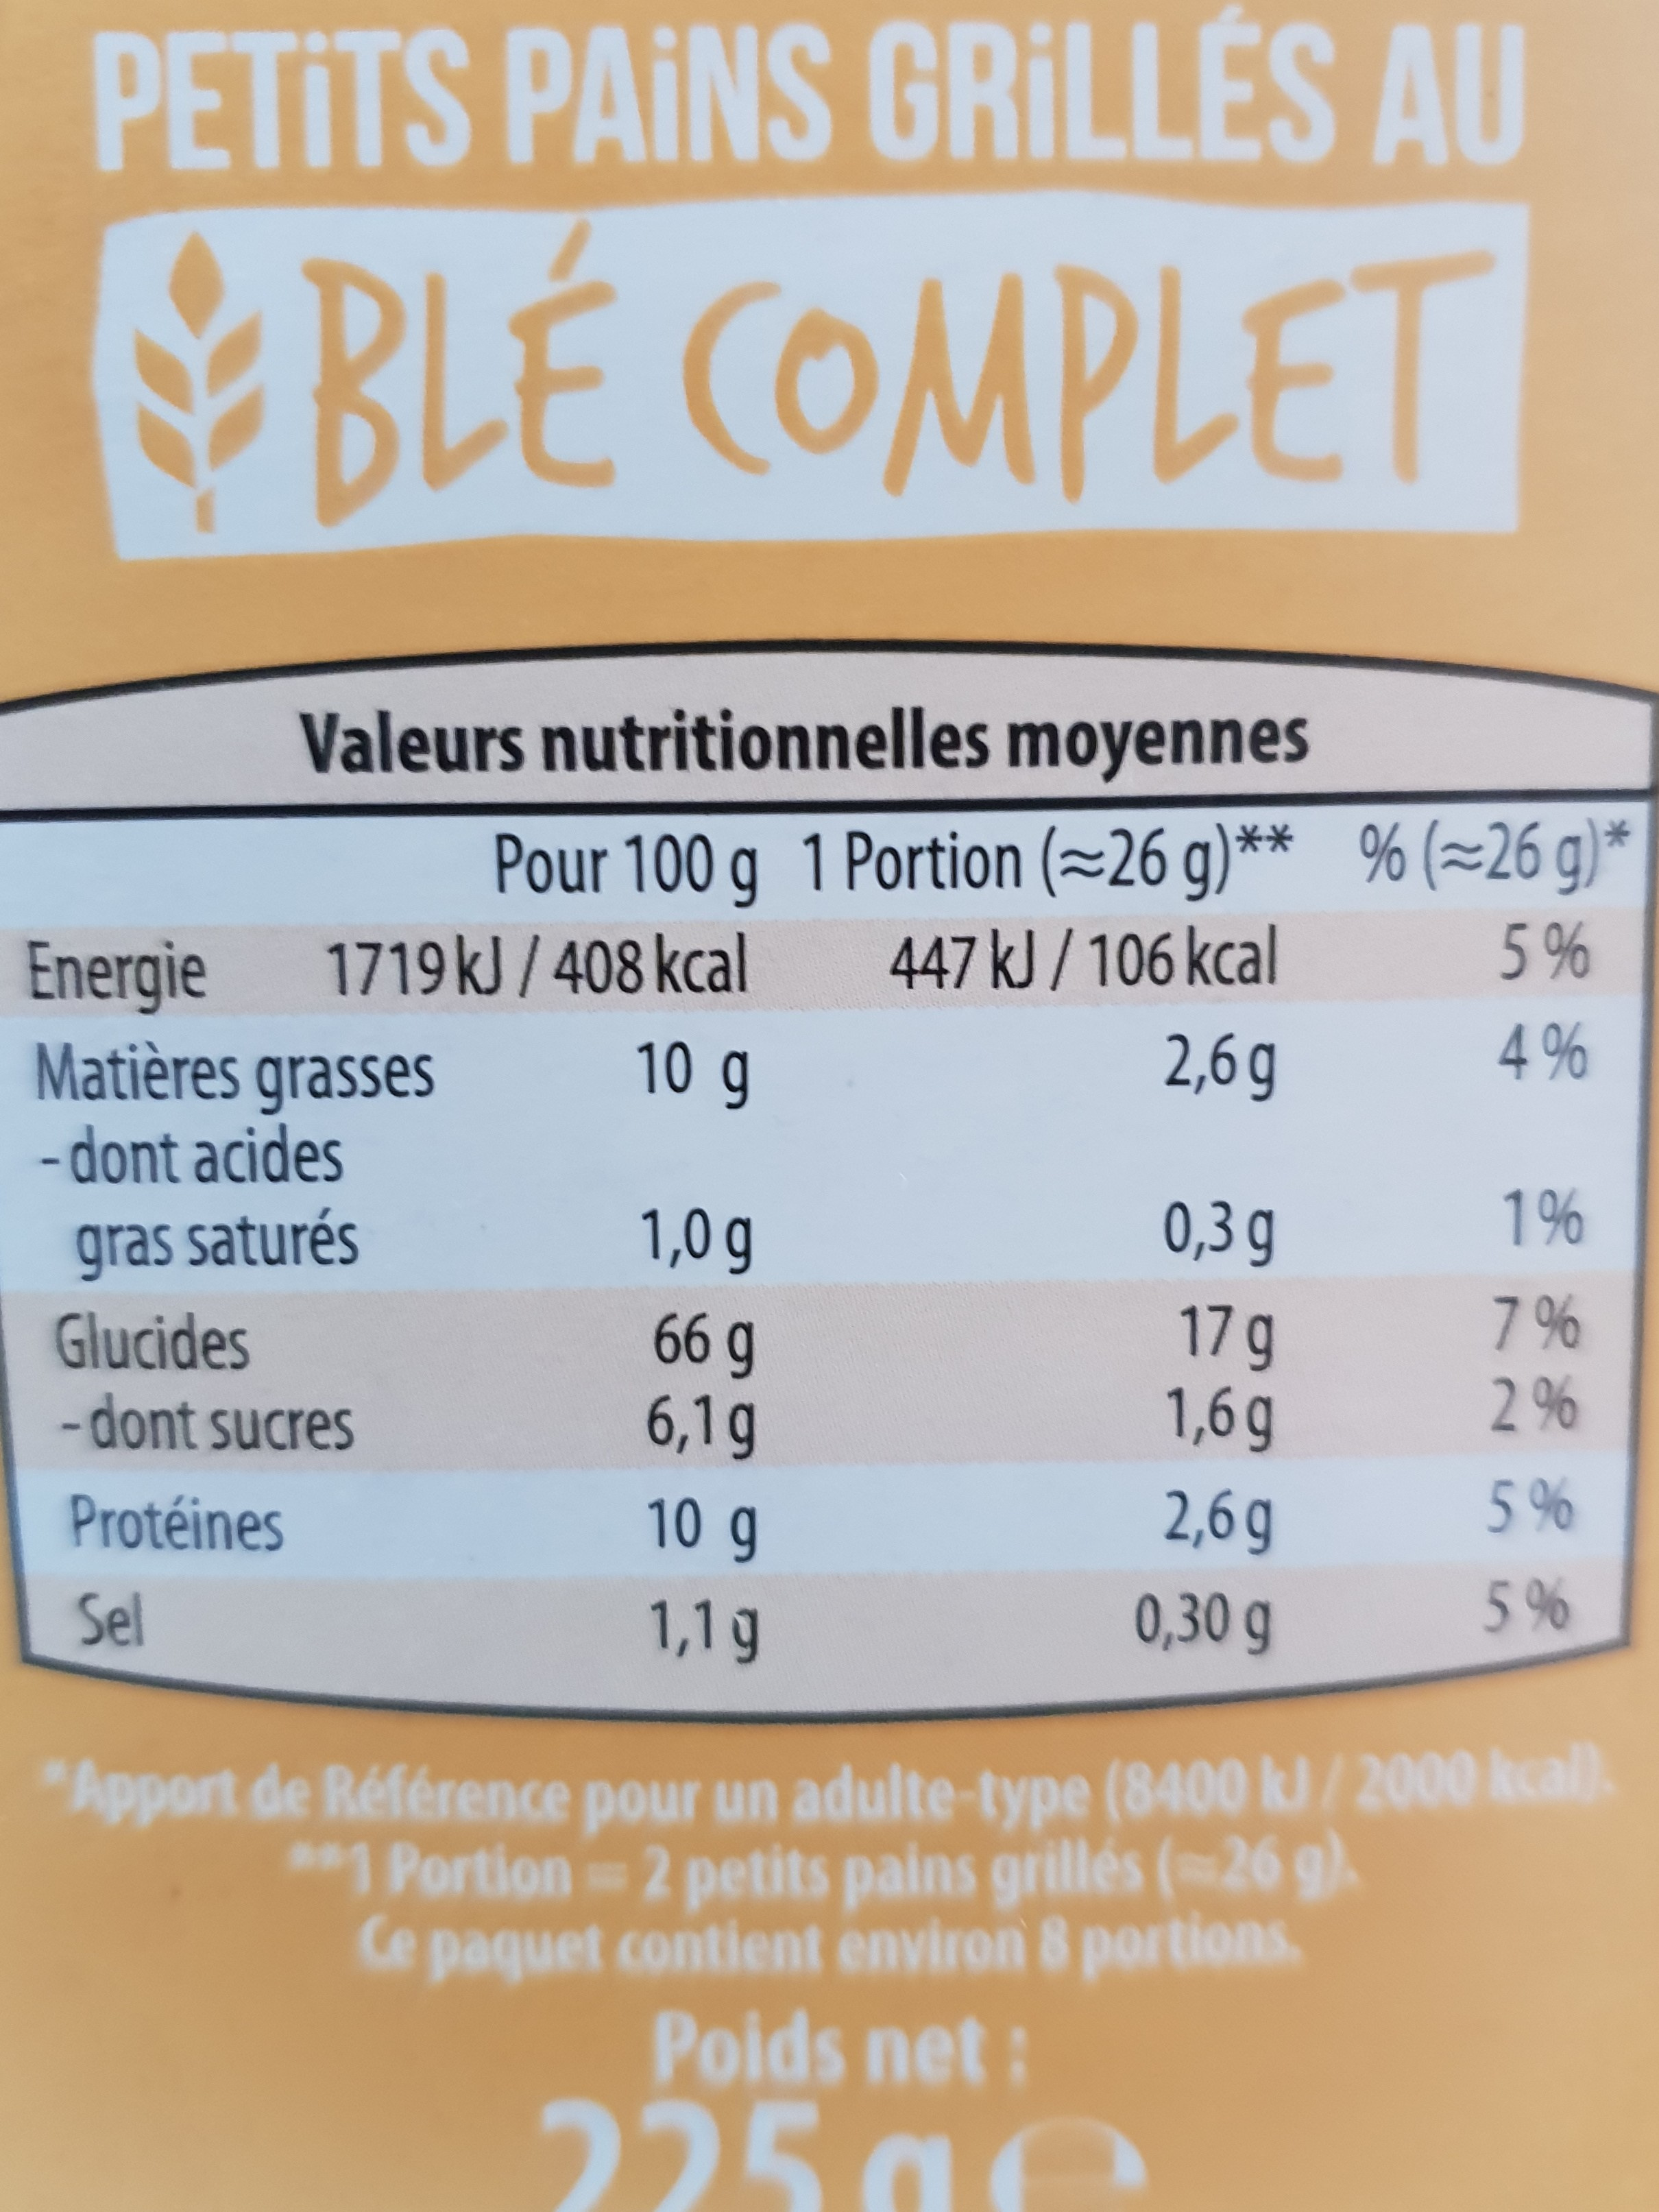column: (796, 797, 1328, 1693), (310, 824, 779, 1703), (9, 931, 444, 1679), (1345, 800, 1654, 1661)
table: (5, 816, 1626, 1666)
